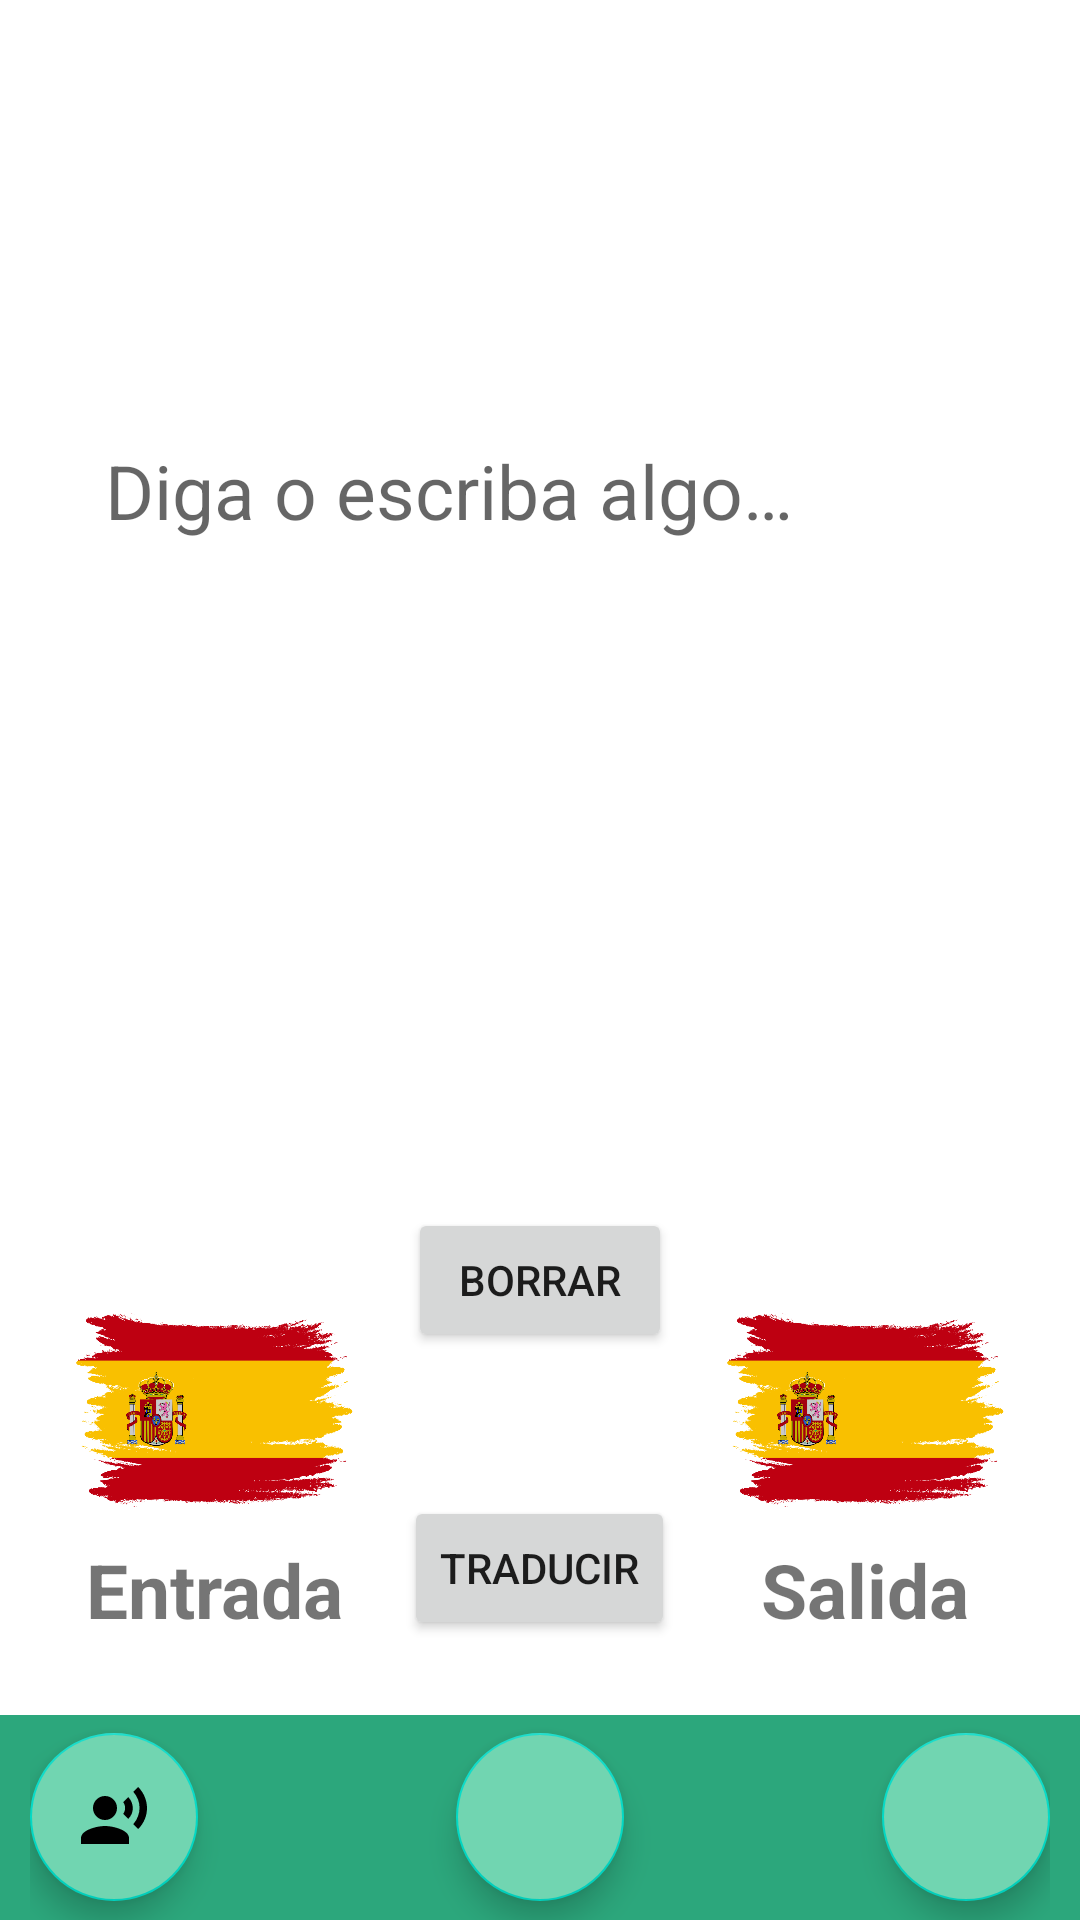

Icon click points for this 1080 x 1920 phone screenshot, format (x,y):
flag spanish: (214,1410), (865,1410)
Leer lo que hay en la caja de texto: (114,1817)
